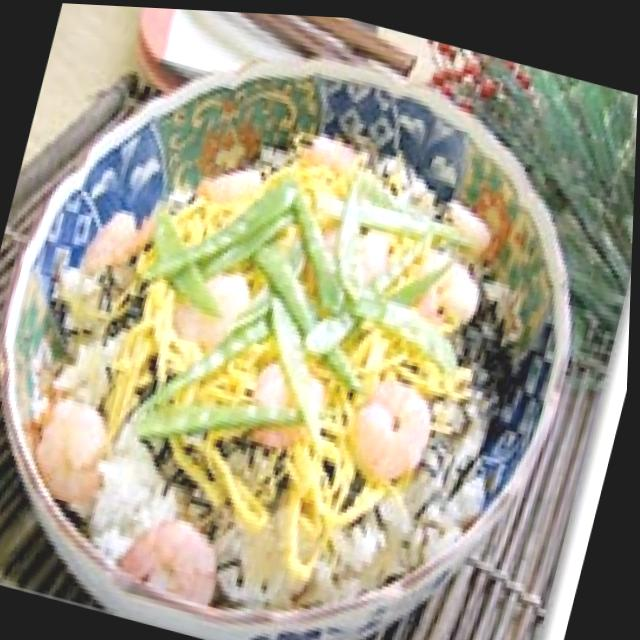寿司卷物: (33, 207, 634, 640)
